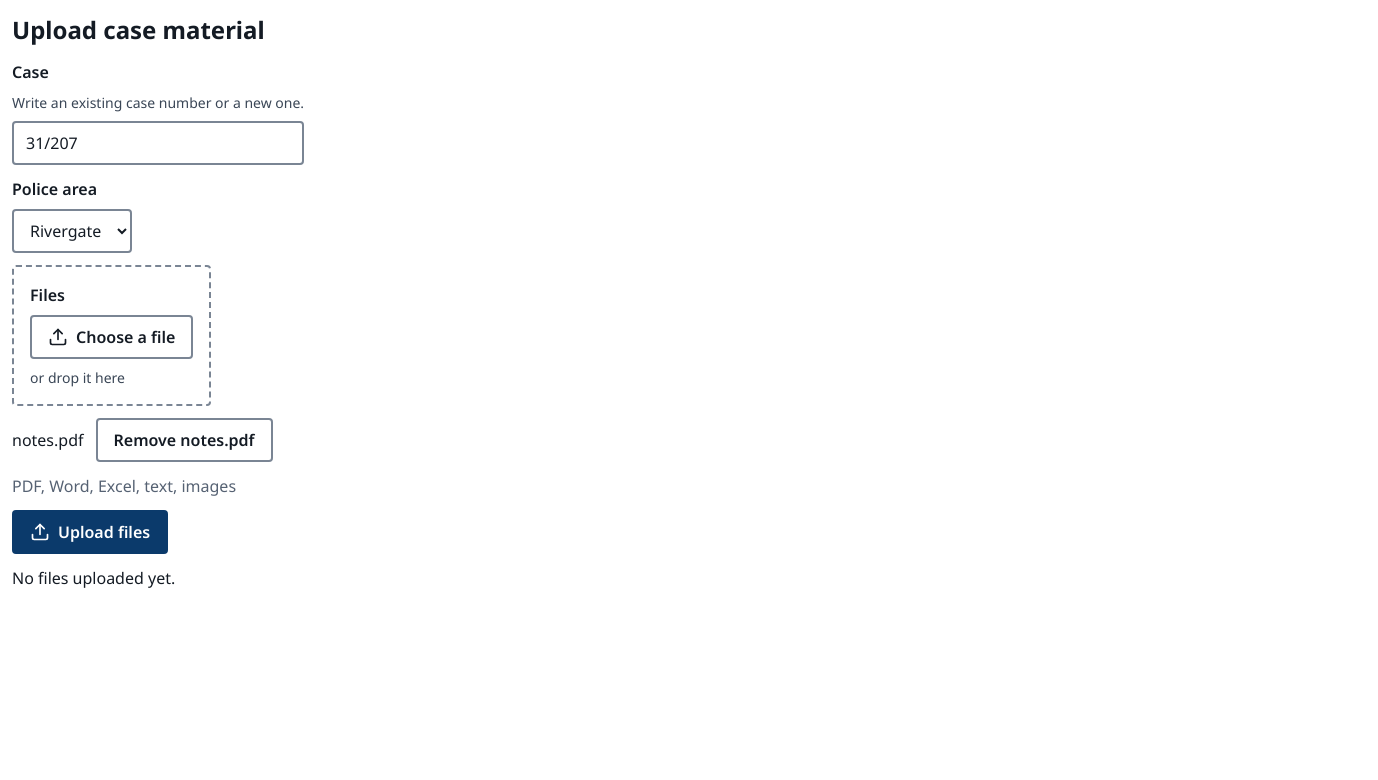
Test: a 403 answer to the upload shows the shared message
Earlier steps of the test are not shown.
What coordinates should you click on to do the following:
click the button "Upload files"
I would click on:
 (90, 532)
Its box is 12,510 -> 168,554.
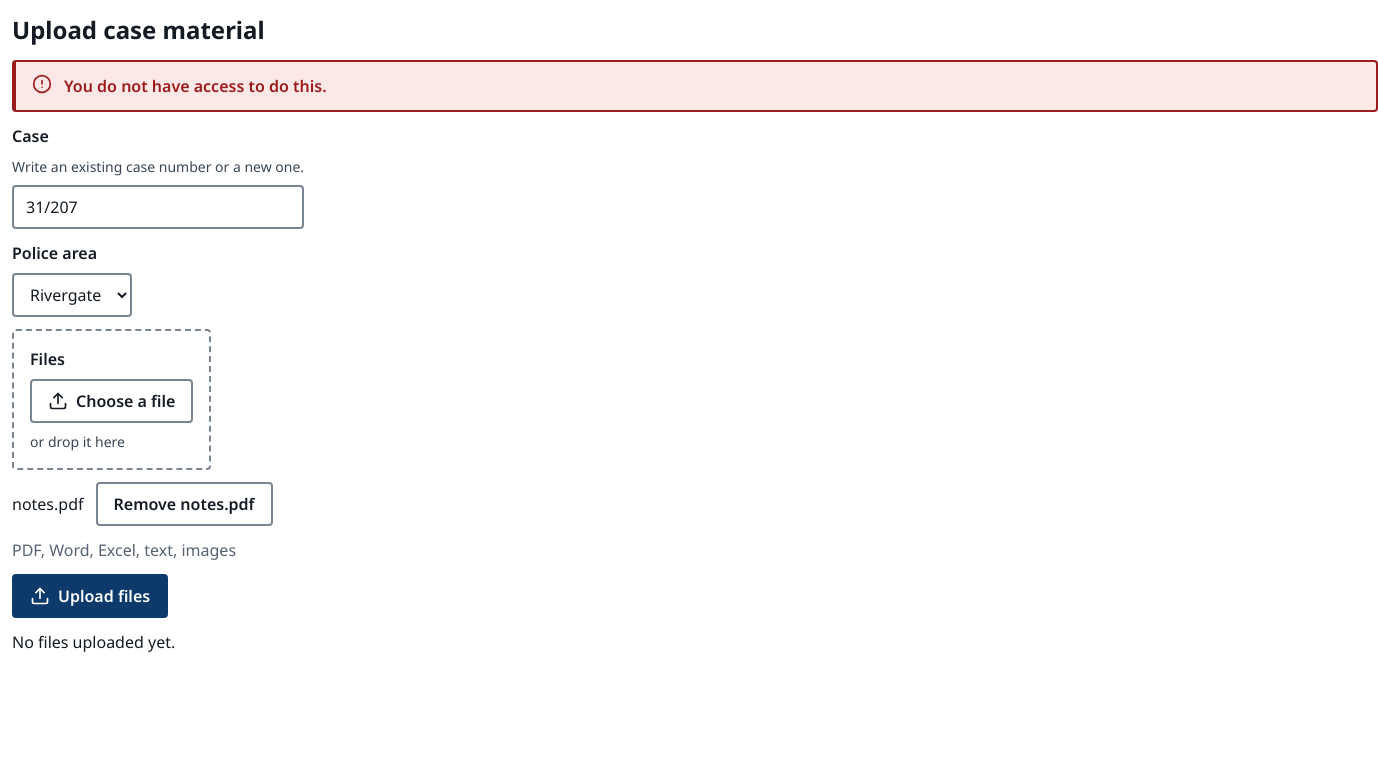
Expected: the text "You do not have access to do this." is shown, 64,75 -> 326,97
